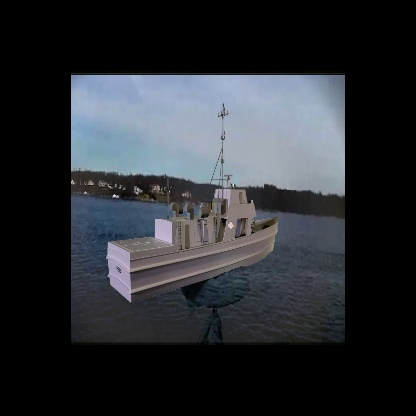YP689: (105, 93, 277, 308)
